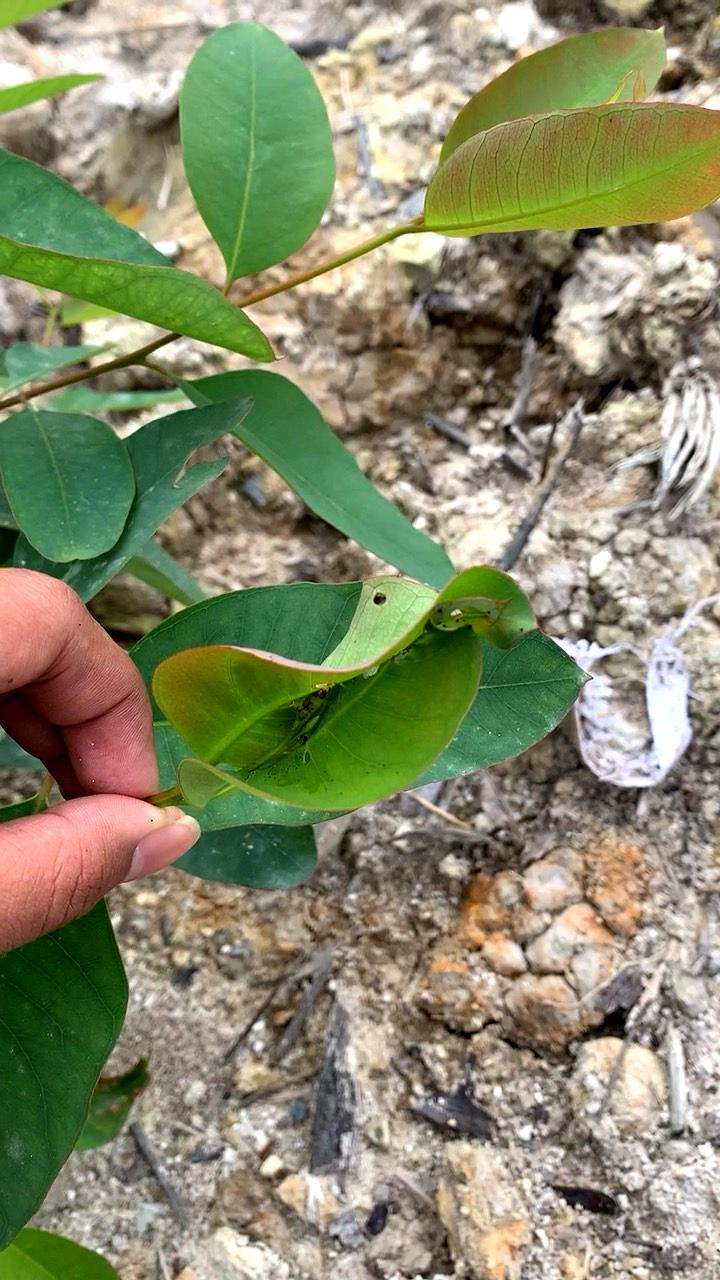Leaf Roller - Leaf: (133, 533, 575, 858)
